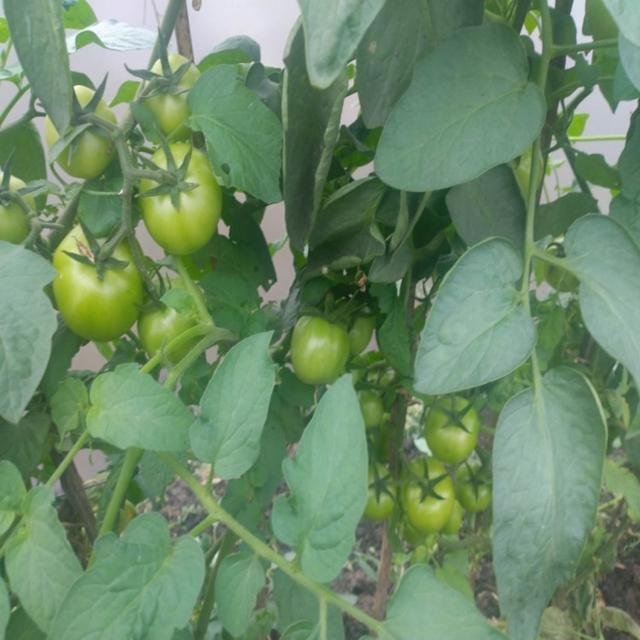tomato: (56, 226, 147, 341), (141, 140, 226, 256), (49, 87, 116, 179), (145, 282, 208, 364), (145, 57, 200, 132), (291, 316, 347, 383), (402, 459, 451, 533), (428, 393, 480, 460), (453, 458, 494, 508), (364, 462, 398, 520), (1, 195, 35, 246), (363, 386, 387, 428)
